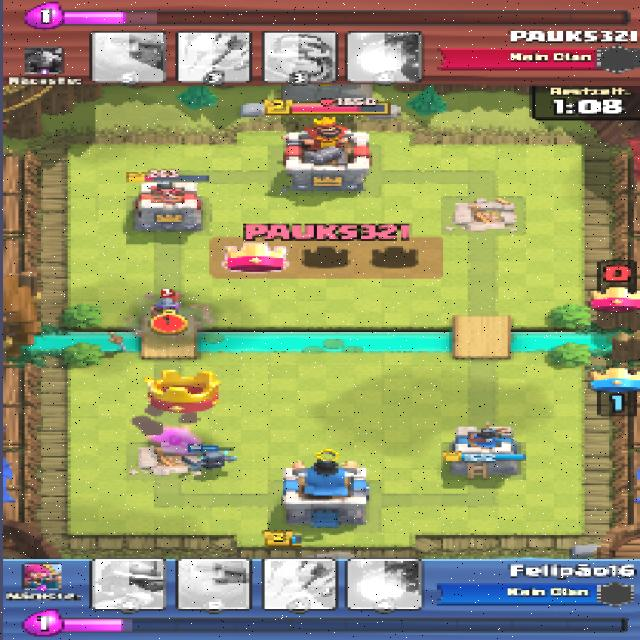Enemy-Musketeer: (147, 300, 180, 319)
Player-MiniPEKKA: (186, 448, 236, 471)
